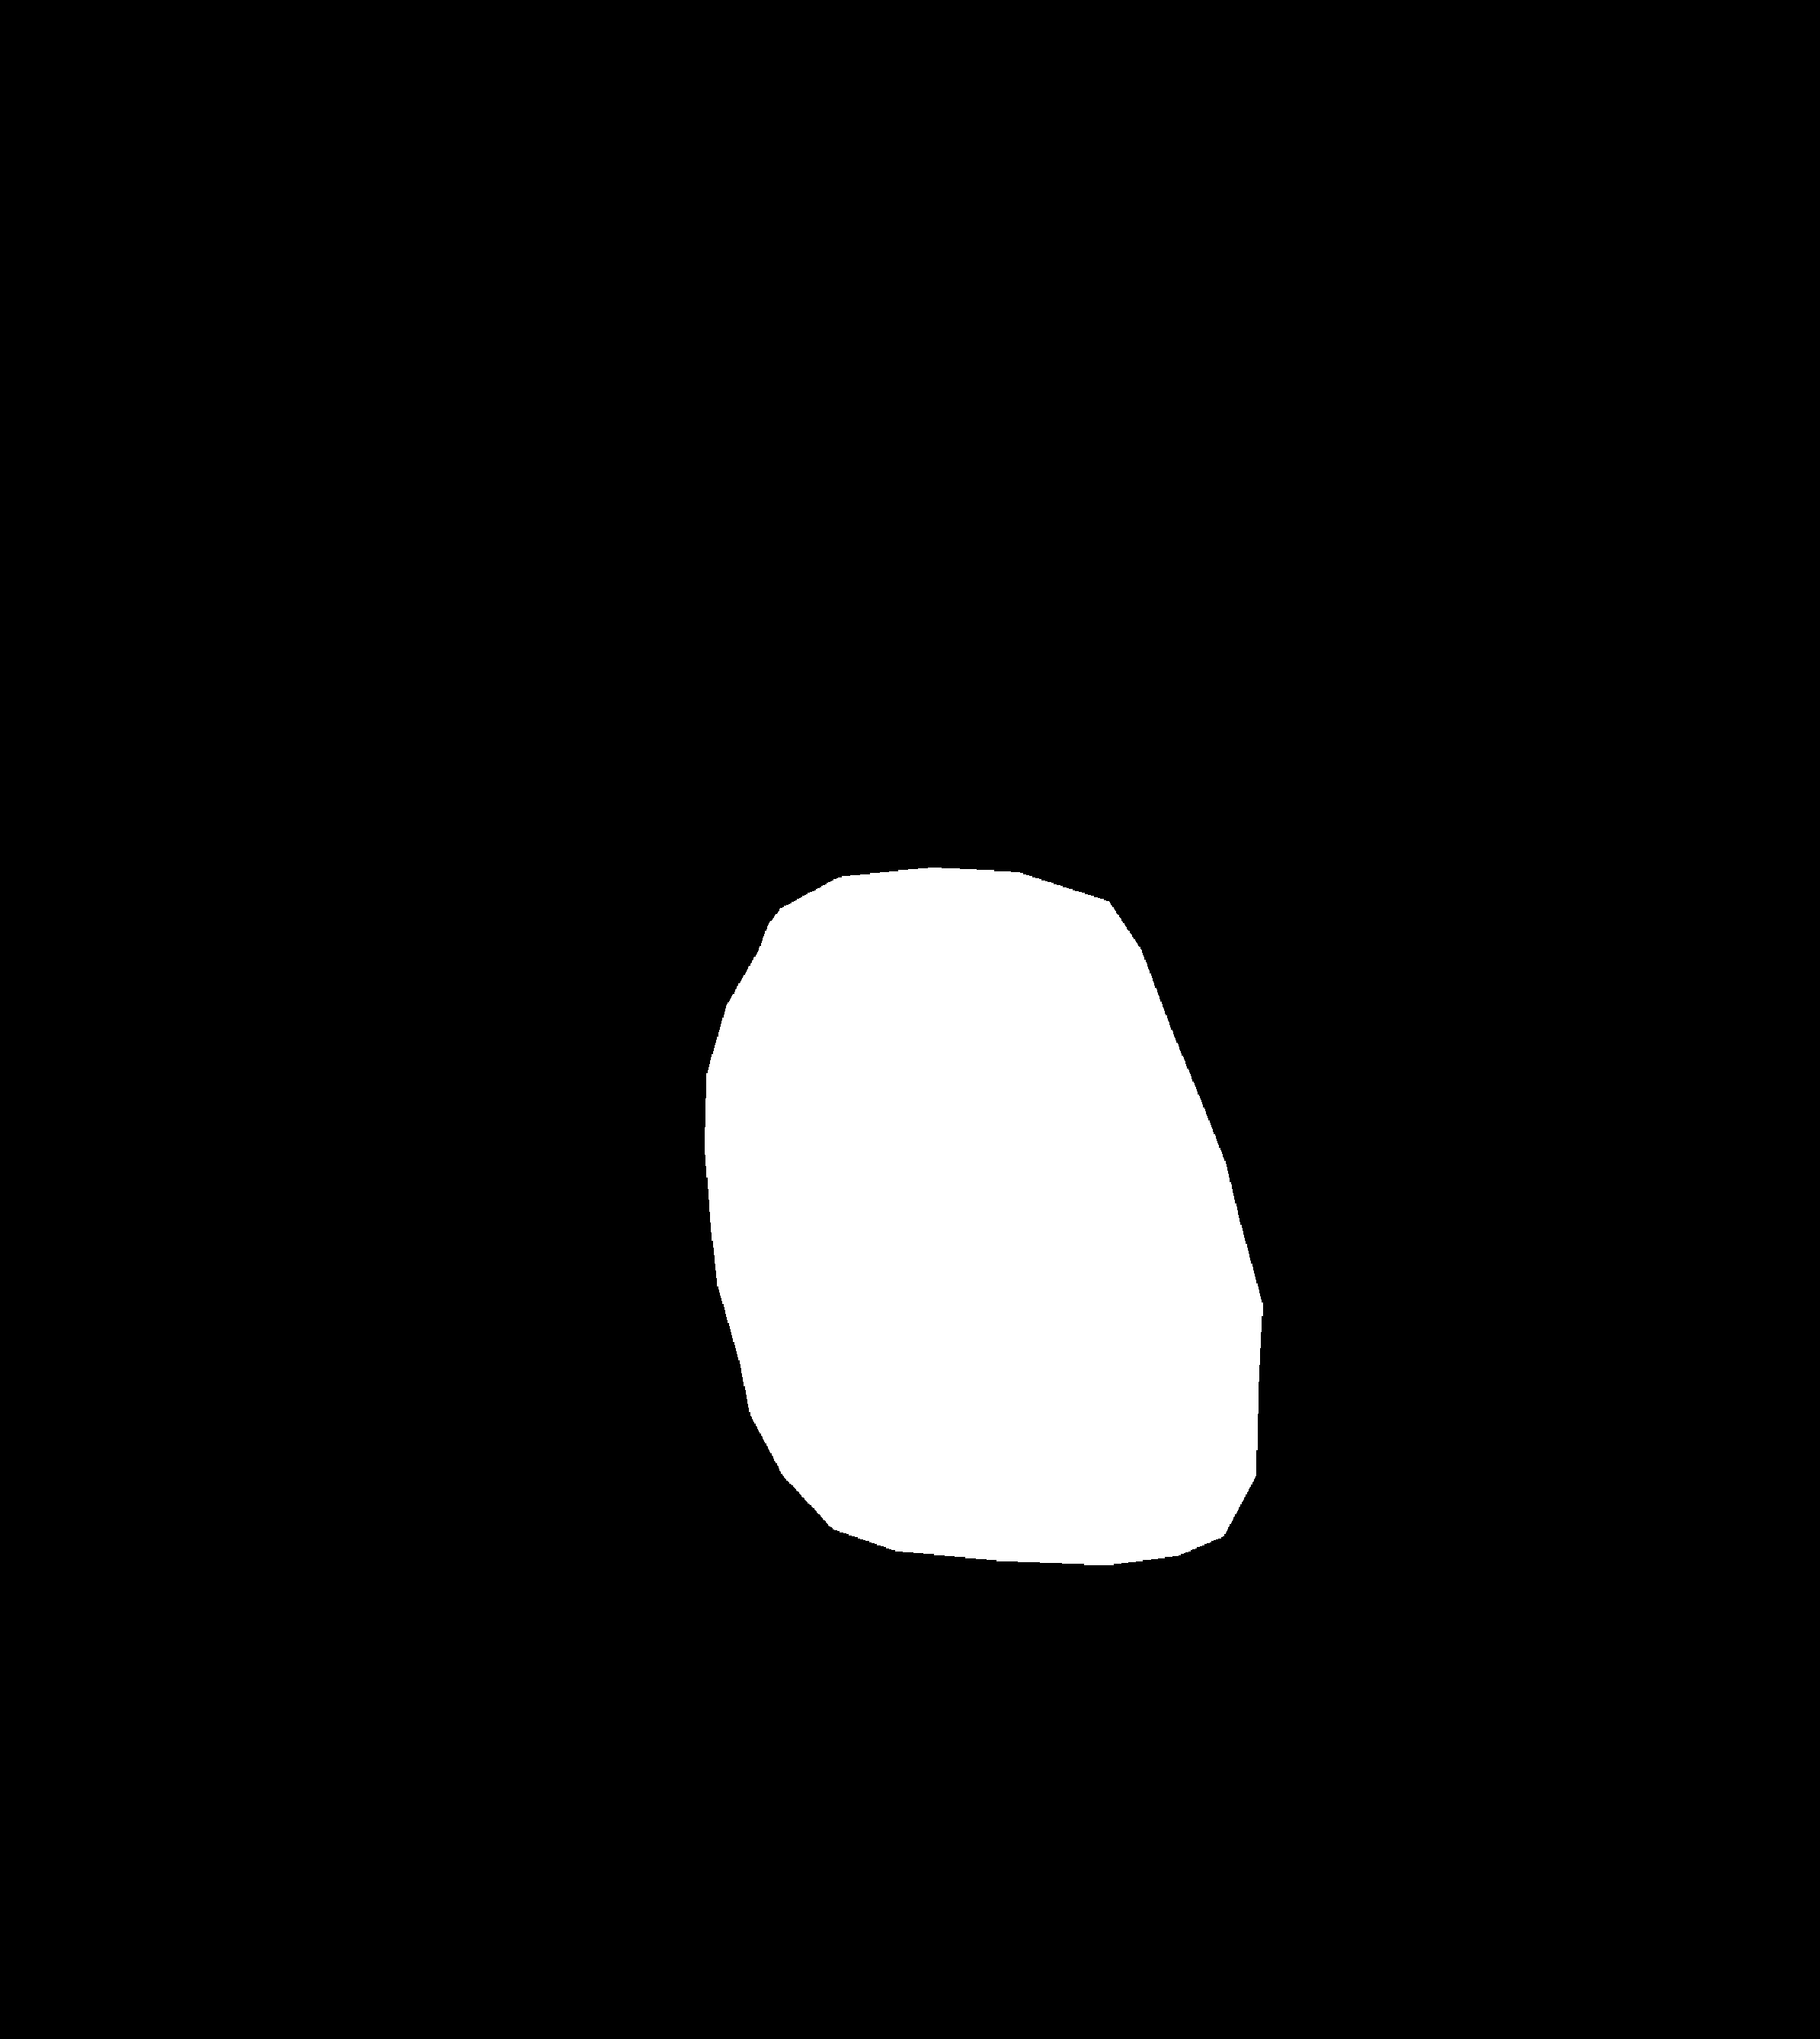heart: (710, 904, 1260, 1575)
left_lung: (228, 193, 812, 1725)
right_lung: (1003, 218, 1611, 1851)
